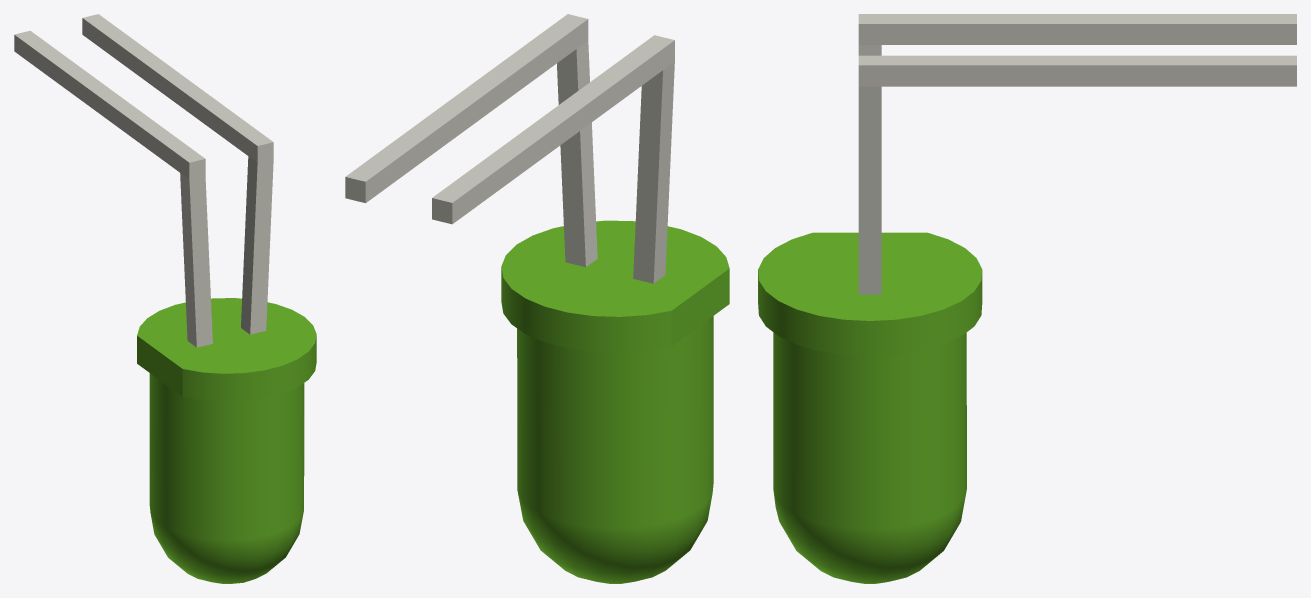
The model's file is LED_5mm_clear_mid.glb.
3 renders of one model, left to right at view 1: azimuth 30°, elevation 25°; view 2: azimuth 150°, elevation 25°; view 3: azimuth 270°, elevation 25°, orthographic. The views are drawn at different scales.
Visible parts, largest first — view 1: LED_D5.0mm_Horizontal_O6.35mm_Z9.0mm; view 2: LED_D5.0mm_Horizontal_O6.35mm_Z9.0mm; view 3: LED_D5.0mm_Horizontal_O6.35mm_Z9.0mm.
Boxes of the visible parts, x1,y1,x2,y2 form: LED_D5.0mm_Horizontal_O6.35mm_Z9.0mm: (14, 14, 316, 583); LED_D5.0mm_Horizontal_O6.35mm_Z9.0mm: (345, 14, 729, 583); LED_D5.0mm_Horizontal_O6.35mm_Z9.0mm: (758, 14, 1296, 583).
Size of the model in its own units: 0.0054 by 0.0152 by 0.0139.
